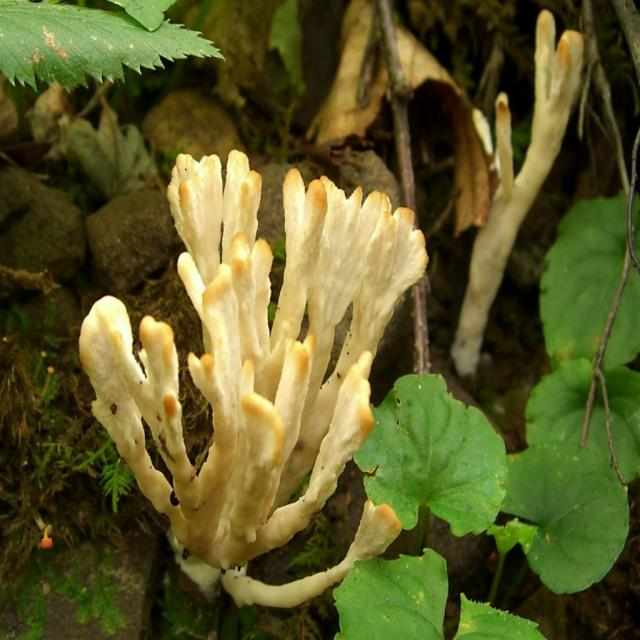Mushroom: (79, 149, 428, 612), (451, 8, 584, 374)
